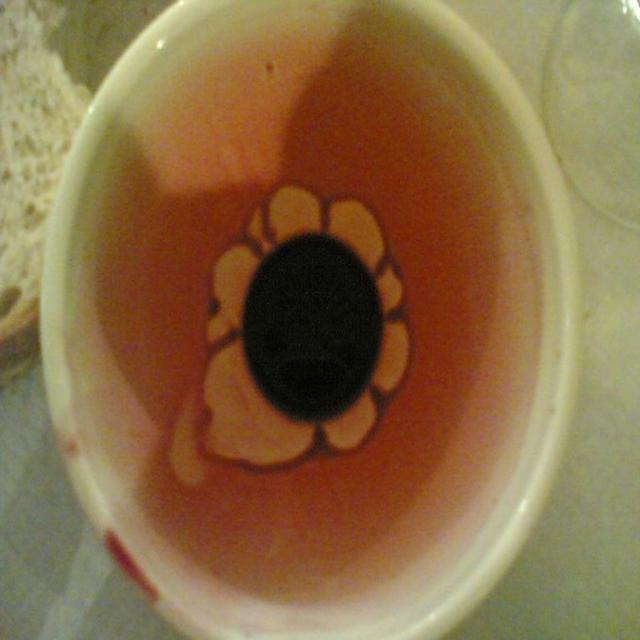Tea: (67, 17, 547, 631)
